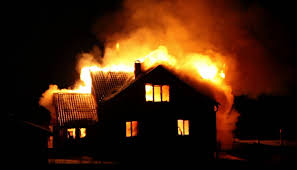fire: (51, 34, 237, 140)
